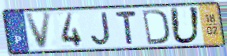4: (59, 11, 84, 49)
D: (141, 8, 171, 46)
J: (89, 11, 113, 47)
T: (114, 10, 139, 46)
U: (168, 6, 203, 46)
V: (24, 11, 54, 51)
